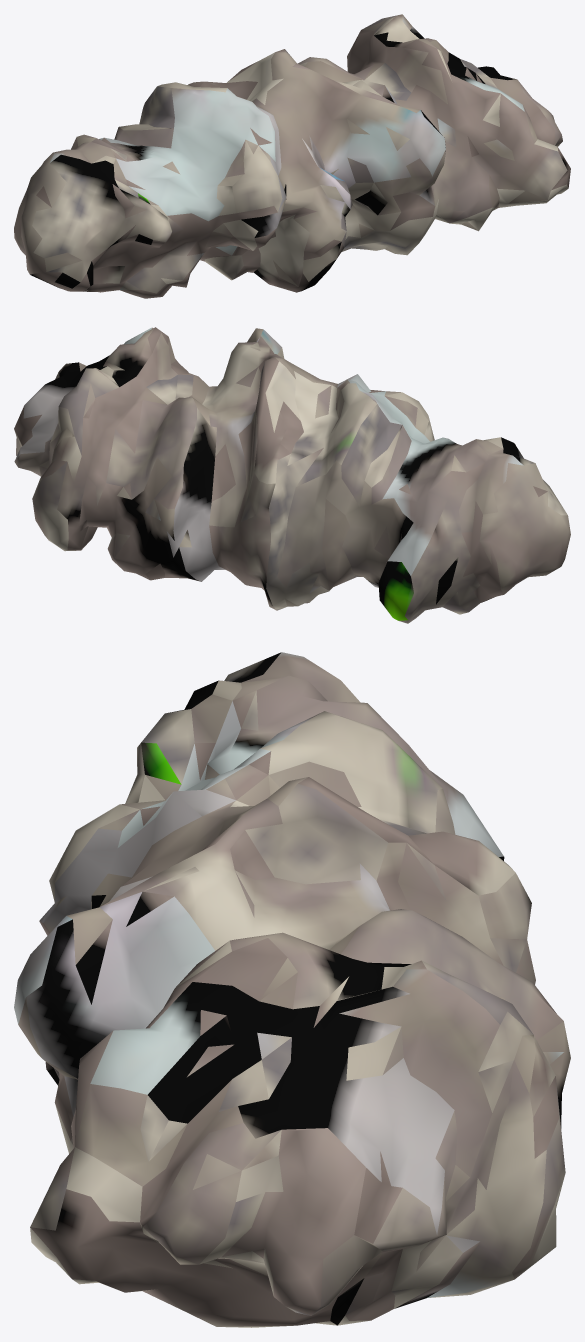
Rendered from Structure-7.fbx.
3 renders of one model, top to bottom at view 1: azimuth 30°, elevation 25°; view 2: azimuth 150°, elevation 25°; view 3: azimuth 270°, elevation 25°, orthographic. The views are drawn at different scales.
Visible parts, largest first — view 1: Structure-7; view 2: Structure-7; view 3: Structure-7.
Boxes of the visible parts, box(x1,y1,x2,y2) form: Structure-7: box(14, 14, 570, 298); Structure-7: box(14, 327, 570, 623); Structure-7: box(14, 652, 570, 1327).
Size of the model in its own units: 6.8 by 2.7 by 3.27.
